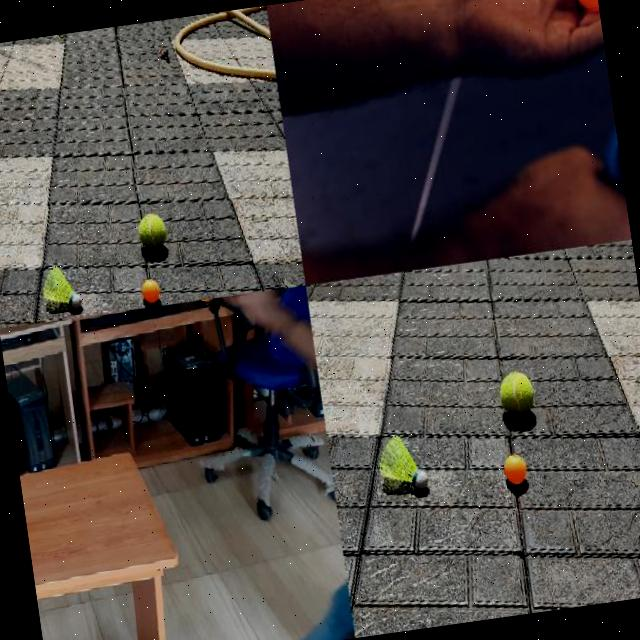ping-pong-ball: (501, 452, 525, 484), (140, 276, 160, 306), (569, 0, 598, 13), (194, 297, 216, 307)
